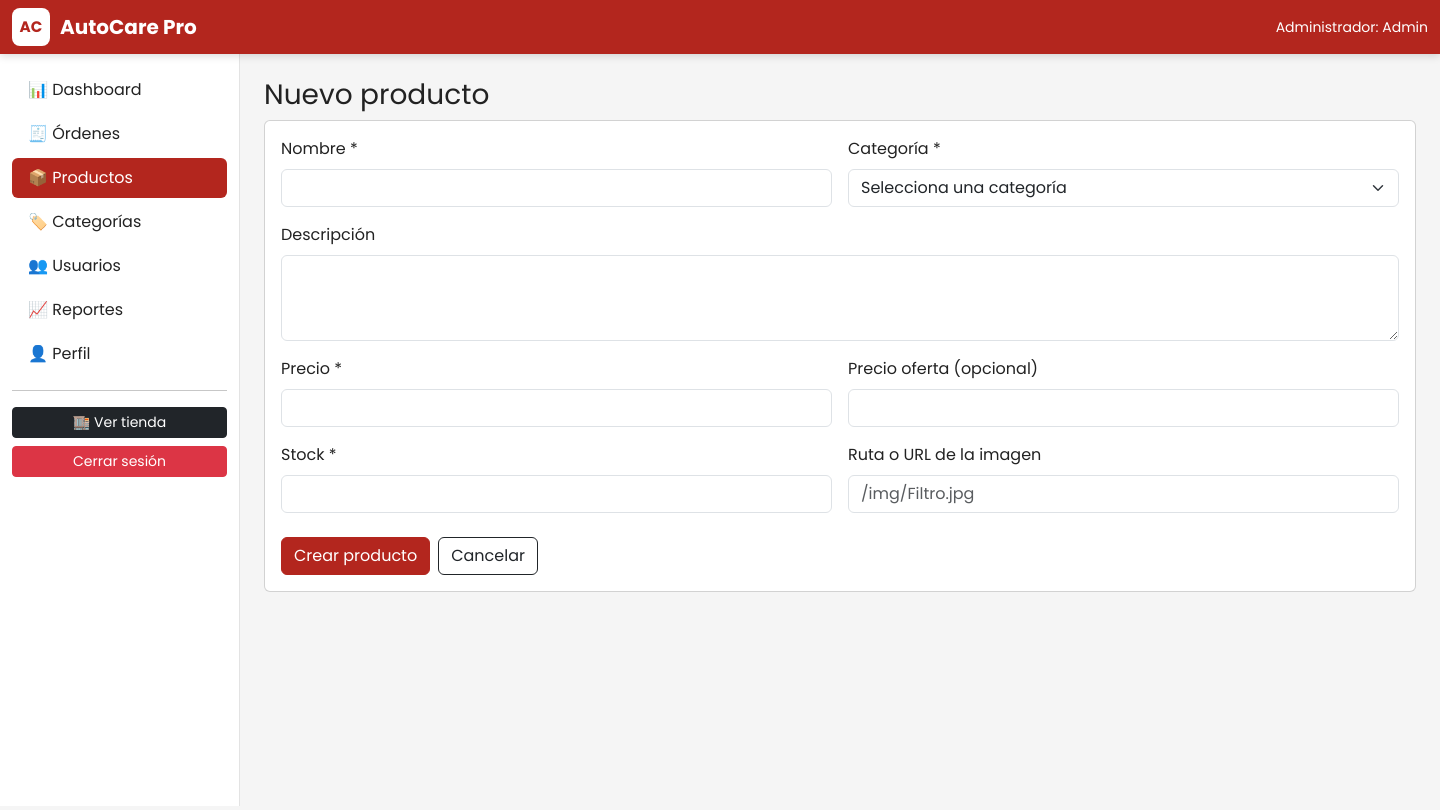
Panel de administración › productos (CRUD) › crea un producto y aparece en el listado
Step 1. Type "Refrigerante 1L" into the field labelled "Nombre *" → (556, 188), box [281,169,832,207]
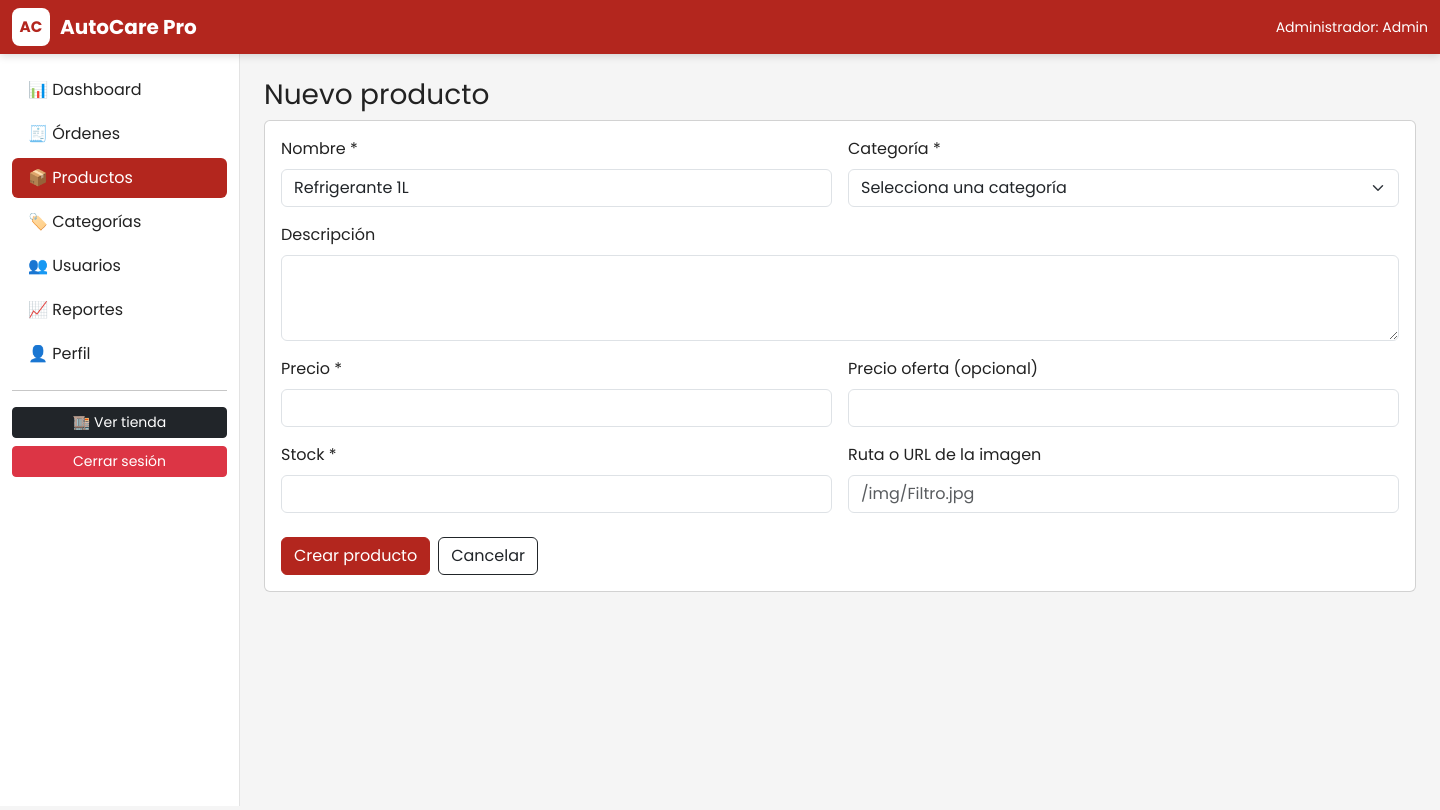
Step 2. Select "Aceites & Filtros" in the dropdown labelled "Categoría *" → (1124, 188), box [848,169,1399,207]
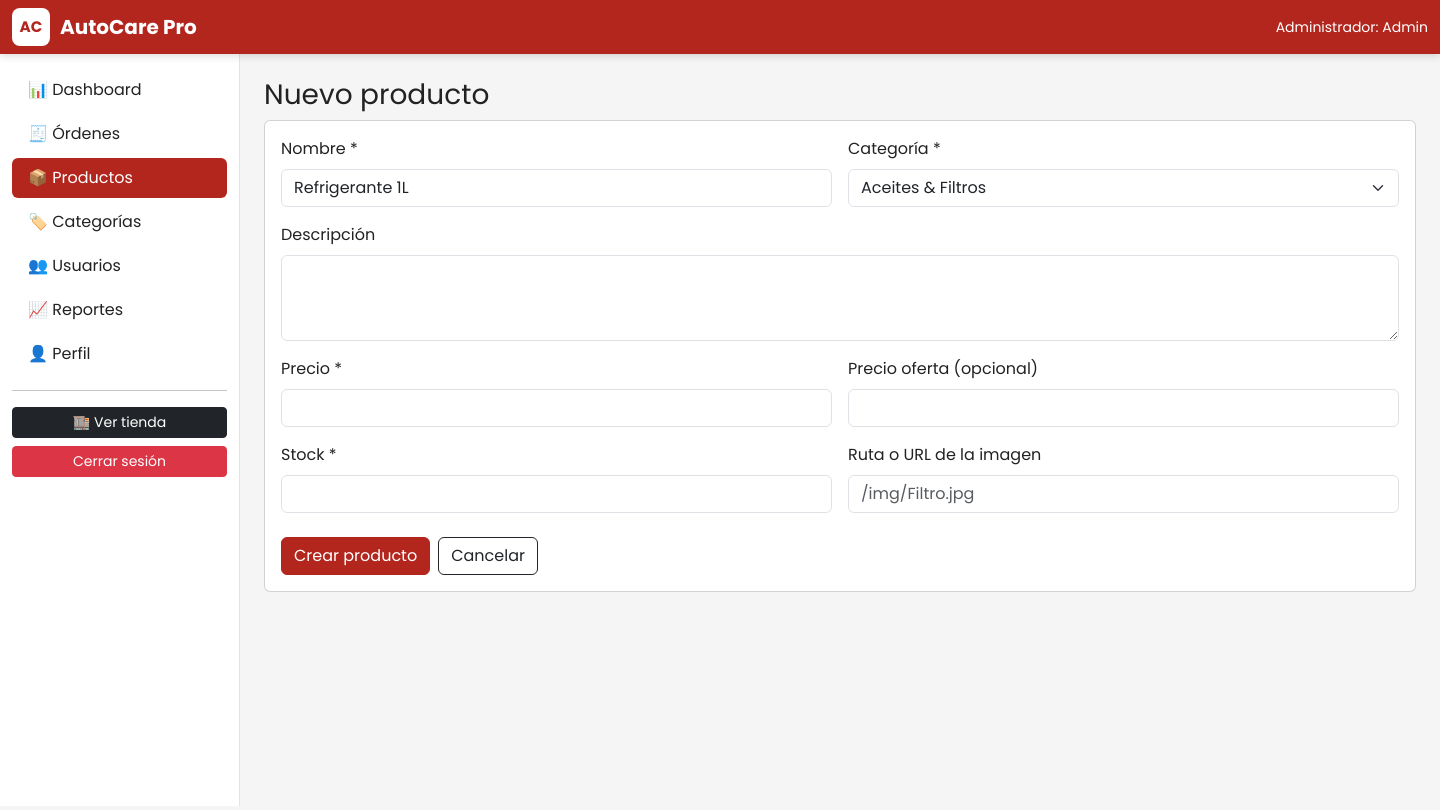
Step 3. Type "5990" into the number field labelled "Precio *" → (556, 408), box [281,389,832,427]
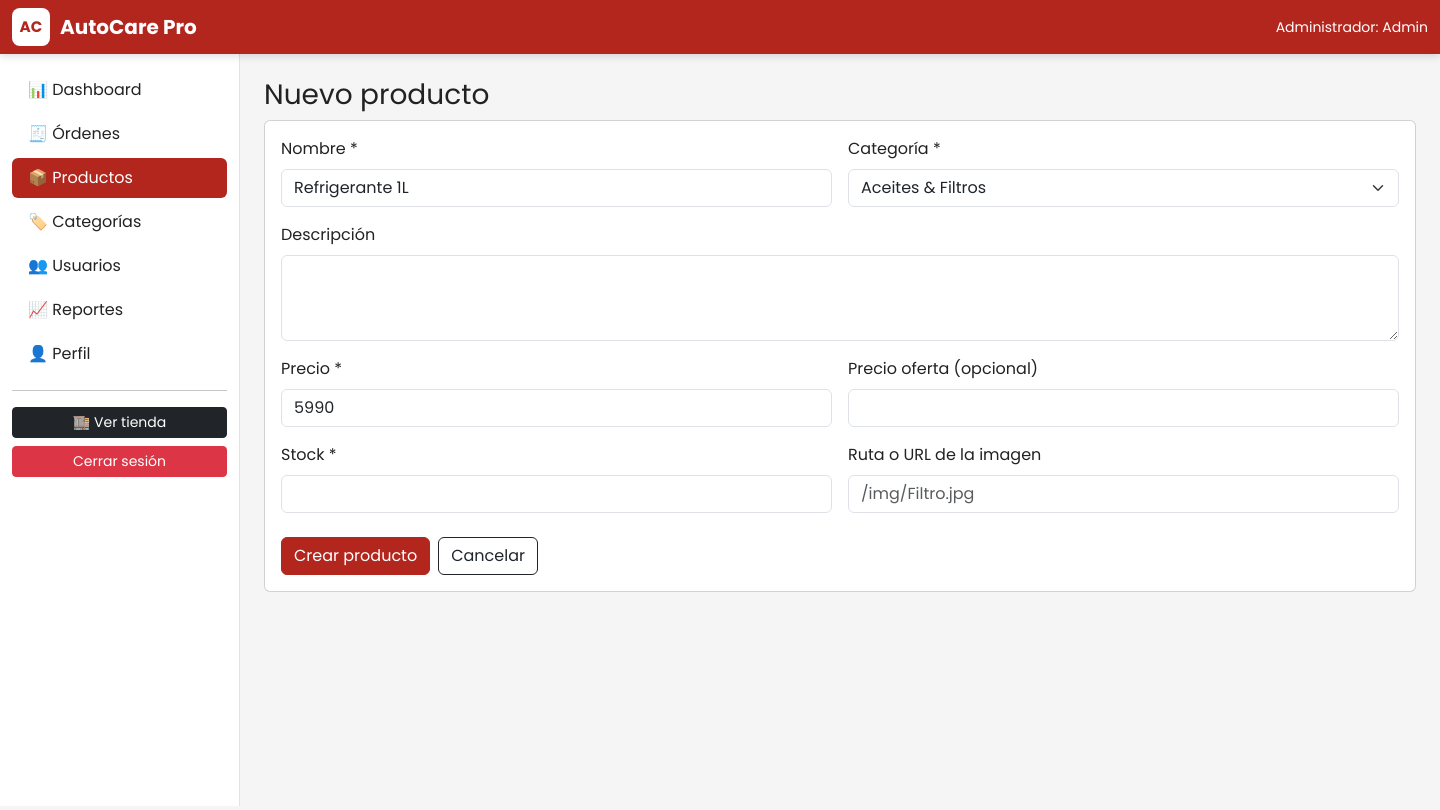
Step 4. Type "10" into the number field labelled "Stock *" → (556, 494), box [281,475,832,513]
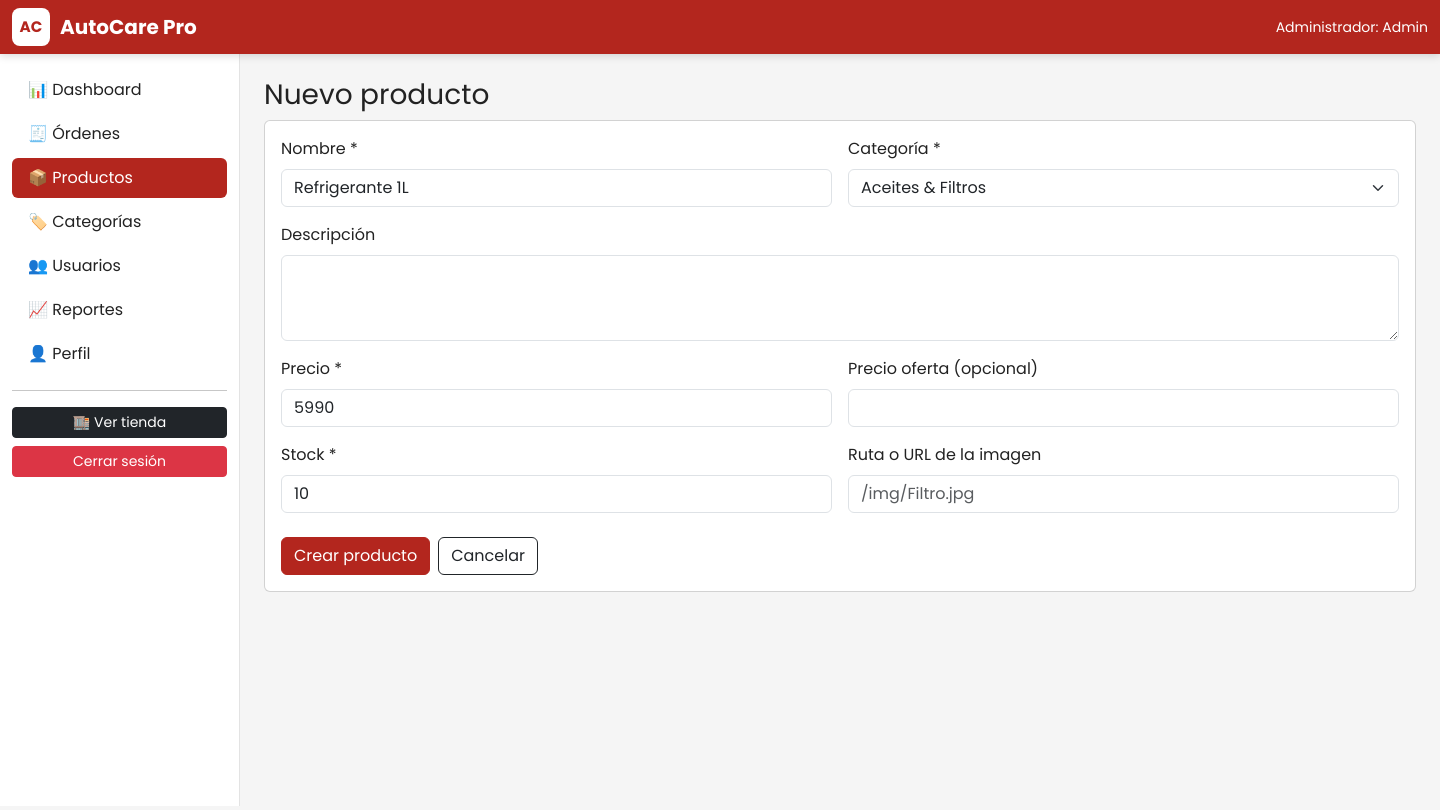
Step 5. Click the button "Crear producto" → (356, 556), box [281,537,430,575]
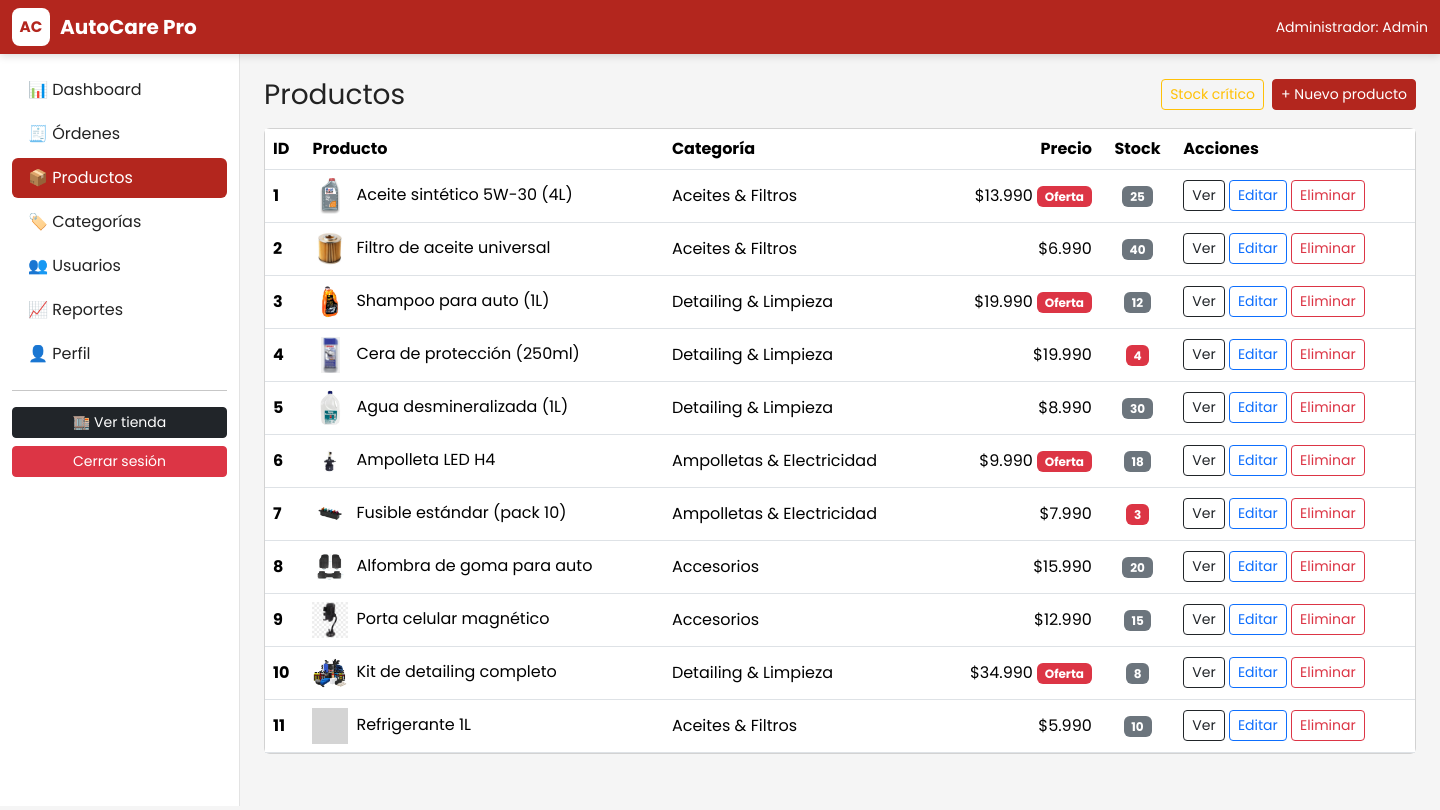
Now the heading "Productos" is shown, box [264,78,405,112]
Now the text "Refrigerante 1L" is shown, box [304,699,664,752]
